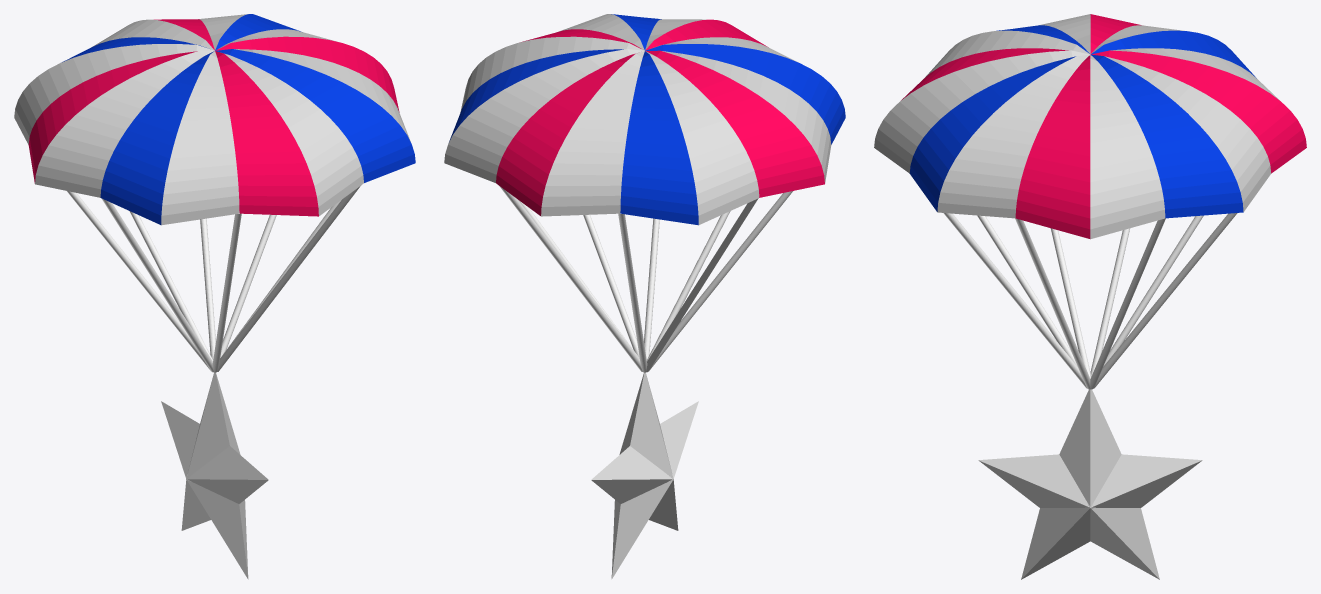
File: ParachutePlayer.dae
The picture shows the model from 3 angles, left to right: view 1: azimuth 30°, elevation 25°; view 2: azimuth 150°, elevation 25°; view 3: azimuth 270°, elevation 25°; orthographic projection. The views are drawn at different scales.
Visible parts, largest first — view 1: Sphere.001; view 2: Sphere.001; view 3: Sphere.001.
Boxes of the visible parts, x1,y1,x2,y2 form: Sphere.001: [14, 14, 415, 579]; Sphere.001: [444, 14, 845, 579]; Sphere.001: [874, 14, 1306, 579].
Size of the model in its own units: 25 by 25 by 33.74.
